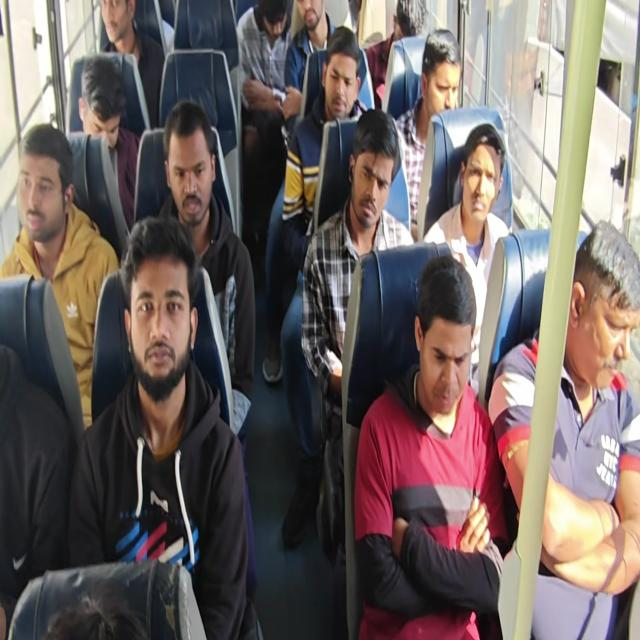person: (1, 1, 638, 638), (67, 214, 253, 638), (353, 254, 509, 638), (488, 218, 639, 597), (155, 99, 260, 623), (300, 108, 415, 560), (277, 25, 369, 549), (0, 123, 120, 430), (423, 122, 510, 398), (0, 342, 75, 638), (392, 28, 462, 237), (78, 54, 140, 231), (99, 0, 165, 131), (236, 0, 292, 133), (364, 0, 428, 110), (283, 0, 337, 119)
